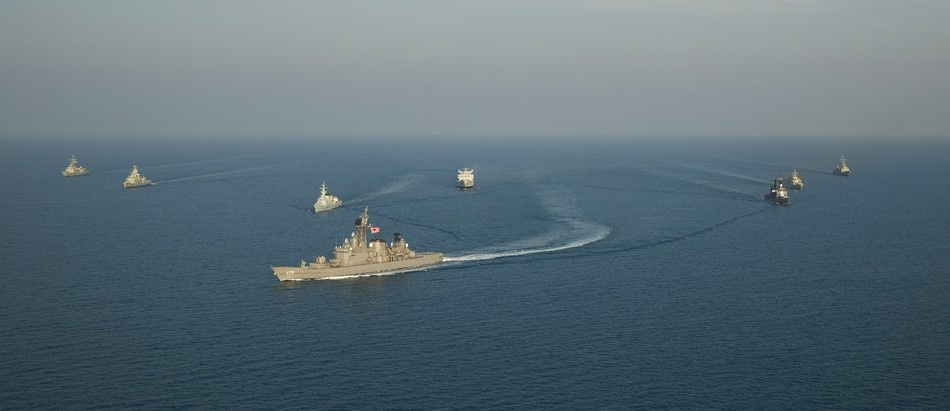warship: (265, 212, 446, 288), (302, 179, 346, 218), (763, 177, 795, 209), (119, 162, 155, 189), (446, 162, 479, 188), (57, 154, 88, 181), (829, 155, 853, 180), (785, 170, 809, 194)
